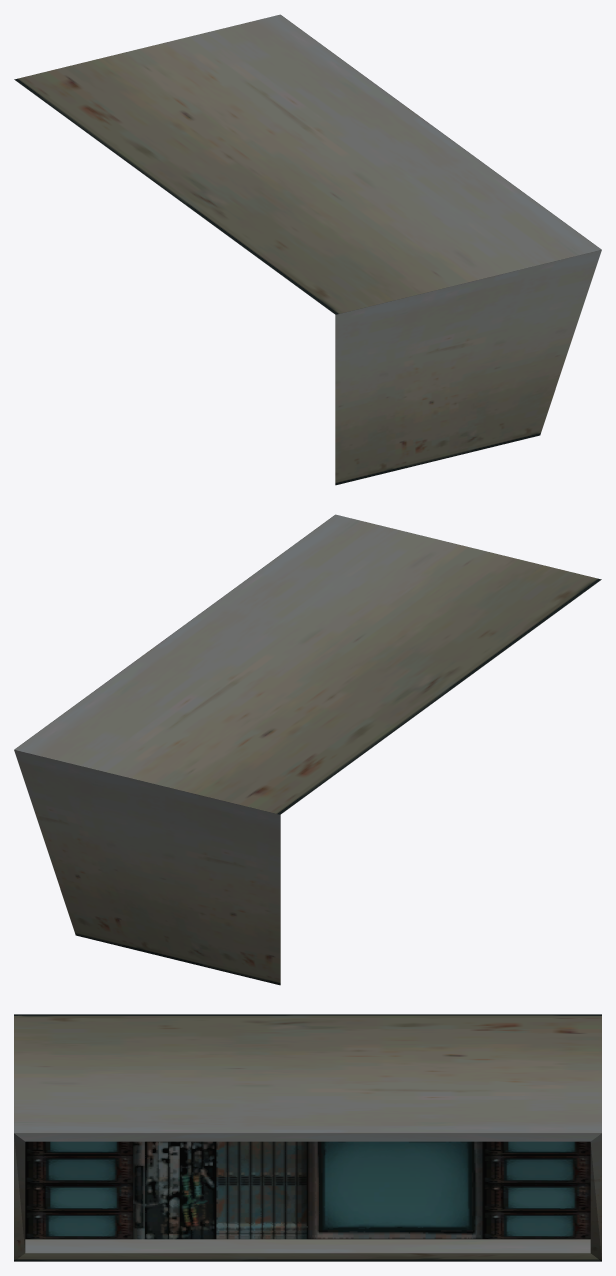
Rendered from M11_LABKIT05.glb.
3 views of the same model, one above another, from view 1: azimuth 30°, elevation 25°; view 2: azimuth 150°, elevation 25°; view 3: azimuth 270°, elevation 25° (orthographic). The views are drawn at different scales.
Visible parts, largest first — view 1: M11_LABKIT05; view 2: M11_LABKIT05; view 3: M11_LABKIT05.
Part boxes in pixels (box(x1,y1,x2,y2)): M11_LABKIT05: box(14, 14, 601, 485); M11_LABKIT05: box(14, 514, 601, 985); M11_LABKIT05: box(14, 1014, 601, 1261).
Size of the model in its own units: 0.845 by 0.517 by 1.76.
2 materials, 2 textured.
